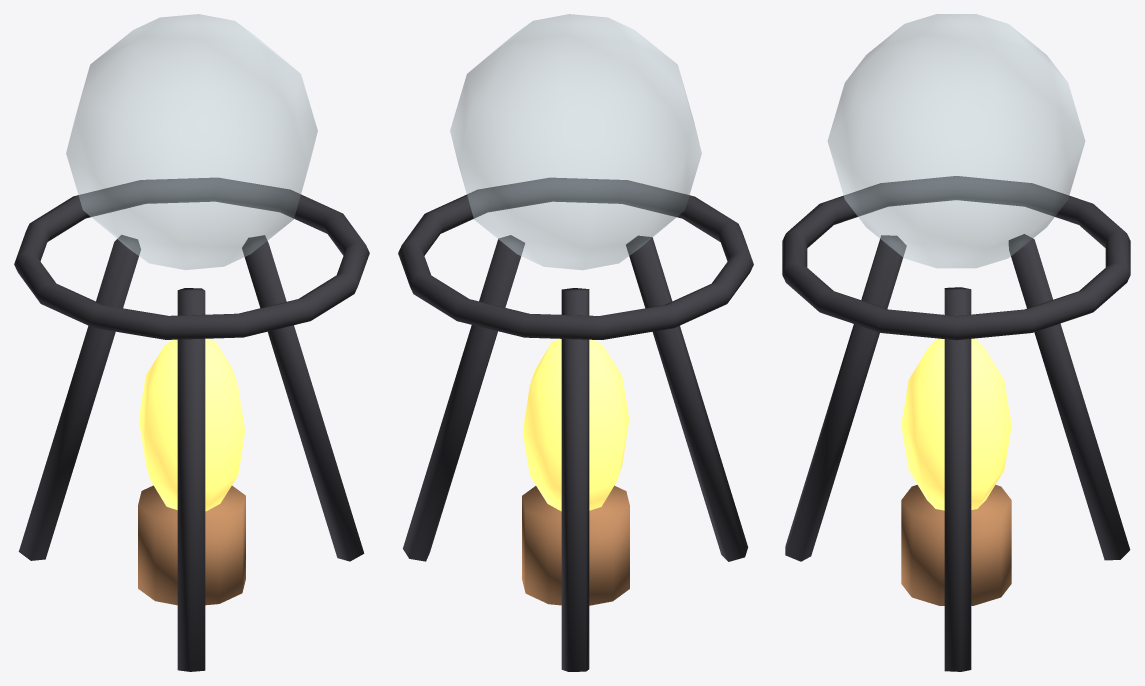
File: apparatus_burner_stand.glb
3 renders of one model, left to right at view 1: azimuth 30°, elevation 25°; view 2: azimuth 150°, elevation 25°; view 3: azimuth 270°, elevation 25°, orthographic.
Visible parts, largest first — view 1: GD_apparatus_burner_stand__m3, GD_apparatus_burner_stand__m0, GD_apparatus_burner_stand__m2, GD_apparatus_burner_stand__m1; view 2: GD_apparatus_burner_stand__m3, GD_apparatus_burner_stand__m0, GD_apparatus_burner_stand__m2, GD_apparatus_burner_stand__m1; view 3: GD_apparatus_burner_stand__m3, GD_apparatus_burner_stand__m0, GD_apparatus_burner_stand__m2, GD_apparatus_burner_stand__m1.
Boxes of the visible parts, left/top/right/bottom form: GD_apparatus_burner_stand__m3: left=66, top=14, right=317, bottom=269; GD_apparatus_burner_stand__m0: left=14, top=177, right=369, bottom=671; GD_apparatus_burner_stand__m2: left=138, top=338, right=245, bottom=511; GD_apparatus_burner_stand__m1: left=138, top=485, right=245, bottom=605; GD_apparatus_burner_stand__m3: left=450, top=14, right=701, bottom=270; GD_apparatus_burner_stand__m0: left=398, top=177, right=753, bottom=671; GD_apparatus_burner_stand__m2: left=522, top=339, right=629, bottom=511; GD_apparatus_burner_stand__m1: left=522, top=485, right=629, bottom=605; GD_apparatus_burner_stand__m3: left=827, top=14, right=1085, bottom=268; GD_apparatus_burner_stand__m0: left=782, top=176, right=1130, bottom=671; GD_apparatus_burner_stand__m2: left=901, top=338, right=1011, bottom=510; GD_apparatus_burner_stand__m1: left=901, top=485, right=1011, bottom=605.
Size of the model in its own units: 0.2043 by 0.3423 by 0.1891.
